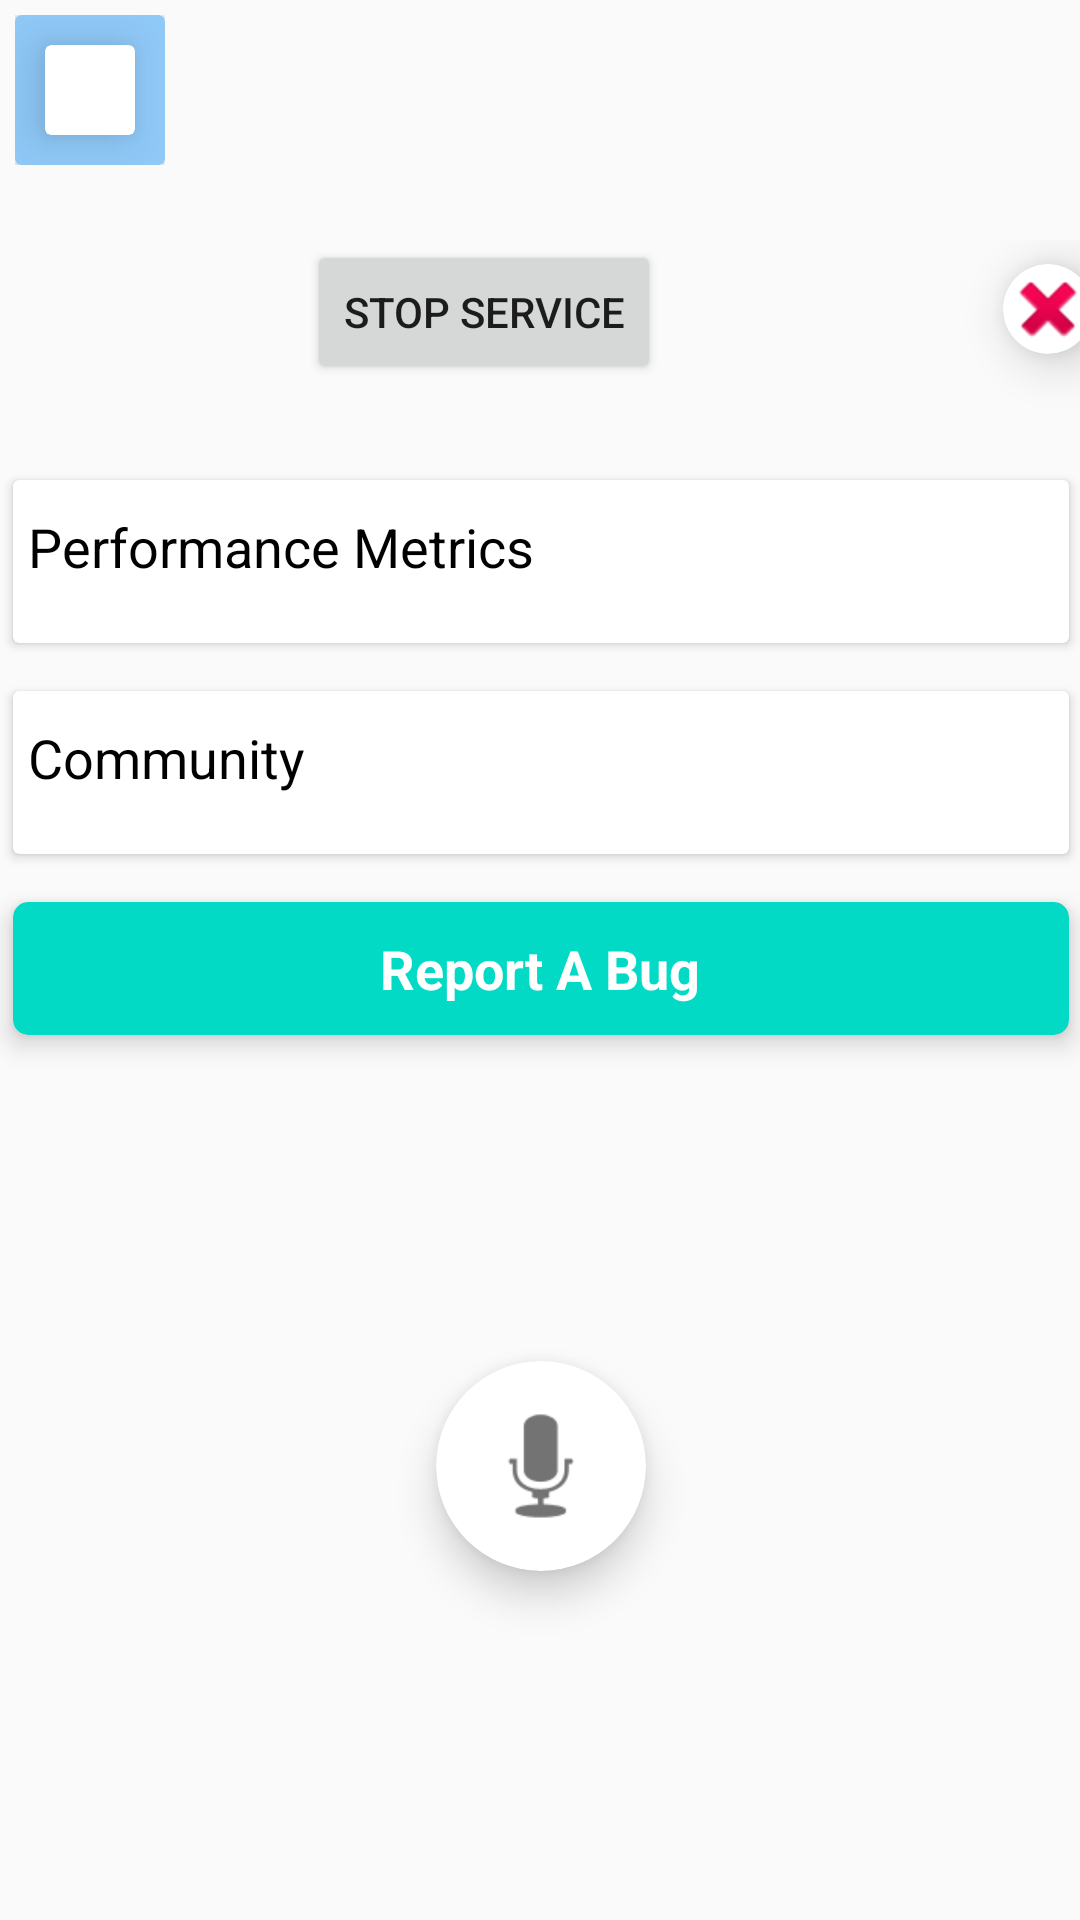

Named icons in this screenshot (1080px×1920px) and their bounding boxes, (x1, y1, x2, y2):
speak now: (508, 1414, 574, 1518)
